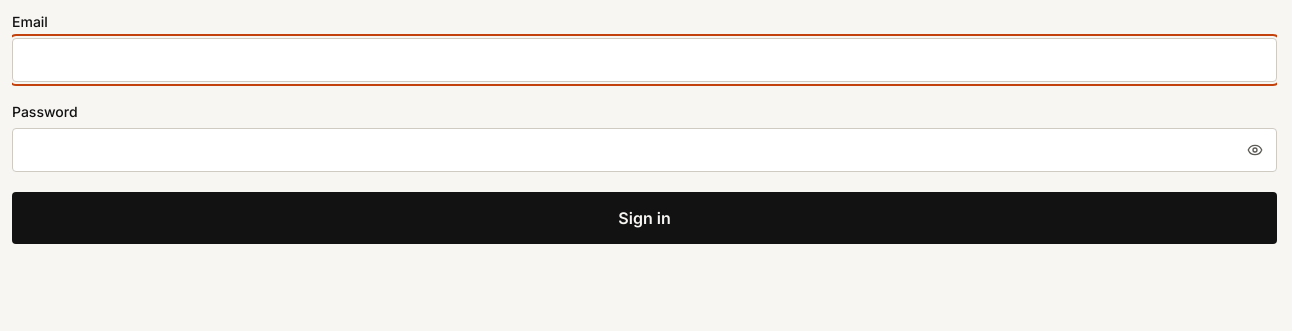
Test: <LoginForm> › shows the server error without revealing which field was wrong
Type "asha@example.com" into the field labelled "Email" at (644, 60), box [12,38,1277,82]
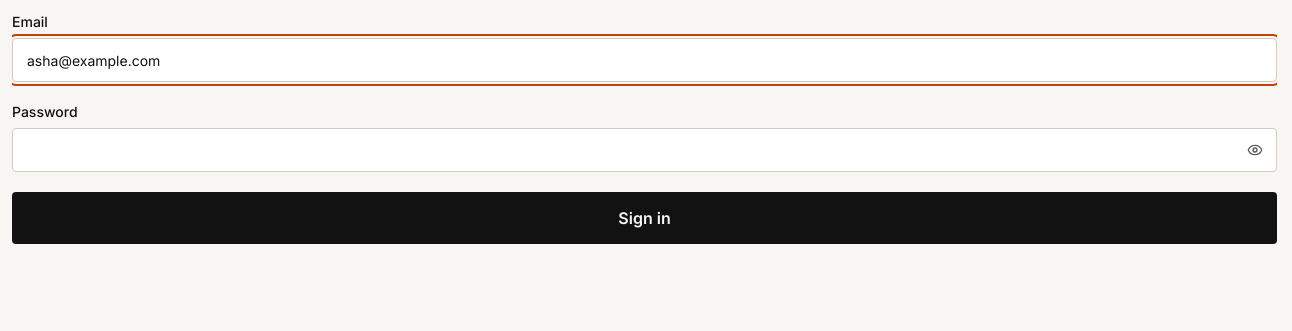
Type "wrongPass1" into the password field labelled "Password" at (644, 150), box [12,128,1277,172]
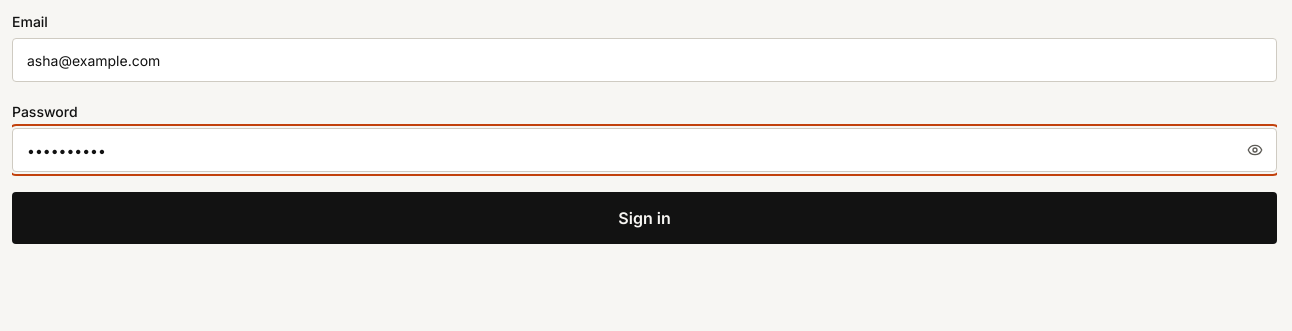
Click the button "Sign in" at (644, 218), box [12,192,1277,244]
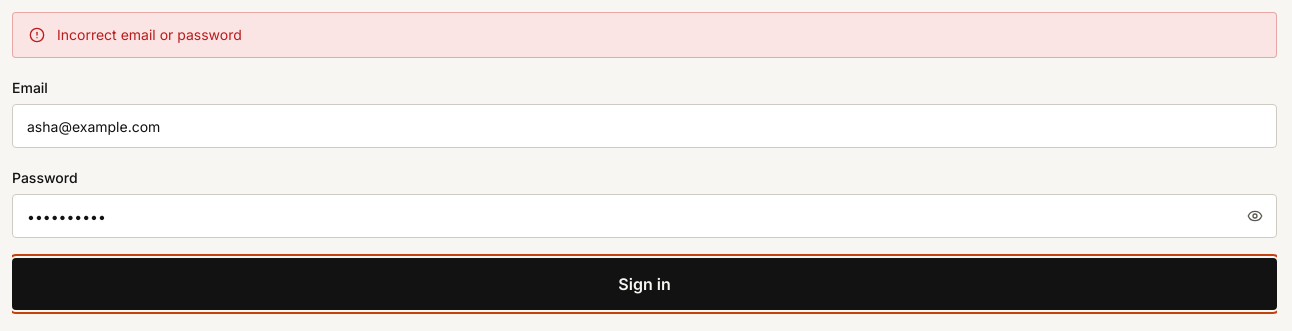
Expected: the message reads "Incorrect email or password", [57,26,242,43]
